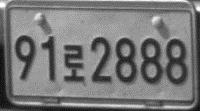1: (41, 34, 56, 82)
2: (90, 37, 112, 84)
8: (139, 38, 163, 84), (165, 38, 188, 86), (114, 37, 137, 84)
9: (13, 35, 37, 81)
로: (61, 44, 86, 83)
